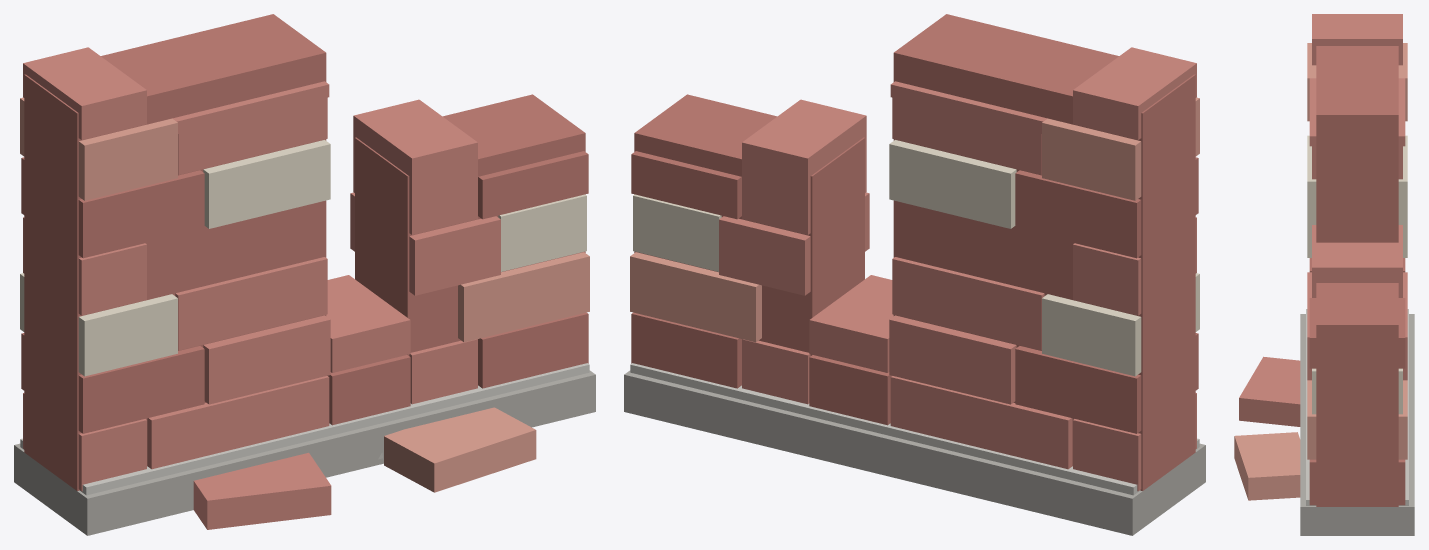
Rendered from wall_ruin.fbx.
3 renders of one model, left to right at view 1: azimuth 30°, elevation 25°; view 2: azimuth 150°, elevation 25°; view 3: azimuth 270°, elevation 25°, orthographic. The views are drawn at different scales.
Visible parts, largest first — view 1: EN_wall_ruin; view 2: EN_wall_ruin; view 3: EN_wall_ruin.
Boxes of the visible parts, <box> form: EN_wall_ruin: <box>14,14,595,535</box>; EN_wall_ruin: <box>624,14,1205,535</box>; EN_wall_ruin: <box>1234,14,1414,535</box>.
Size of the model in its own units: 200 by 161 by 78.93.
